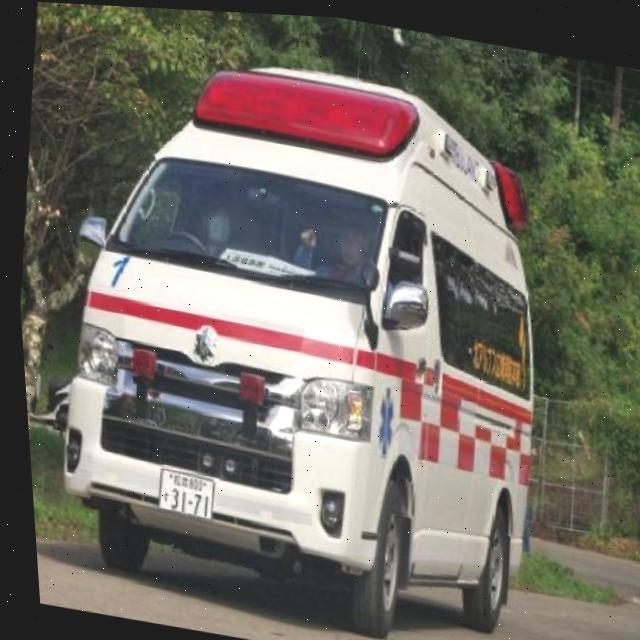emergency: (13, 24, 583, 640)
